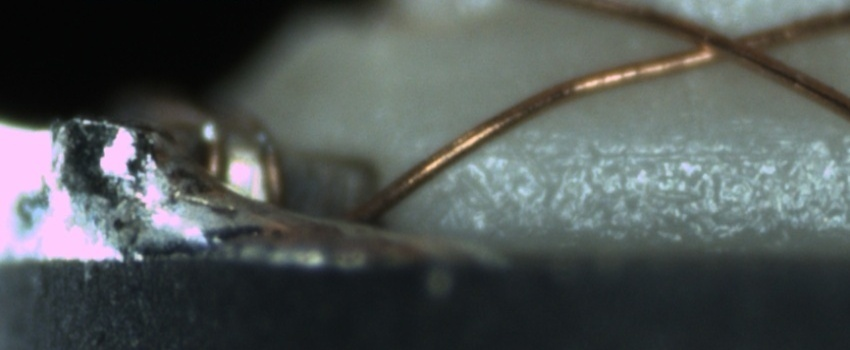CL: (678, 15, 775, 69)
DL: (582, 126, 849, 182)
TE: (148, 90, 290, 210)
